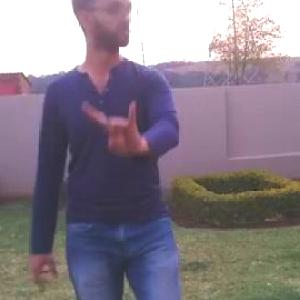takeoff-hand: (78, 87, 150, 159)
